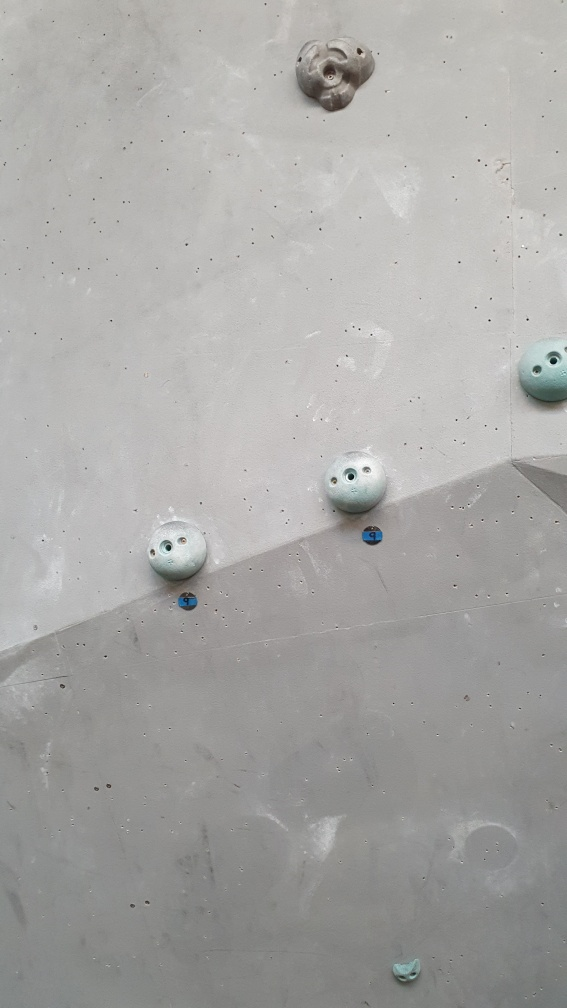Hand Start: (176, 590, 199, 613), (361, 525, 383, 545)
Jug: (294, 32, 379, 113)
Sloper: (322, 449, 390, 514), (146, 518, 208, 583), (518, 333, 567, 403)
